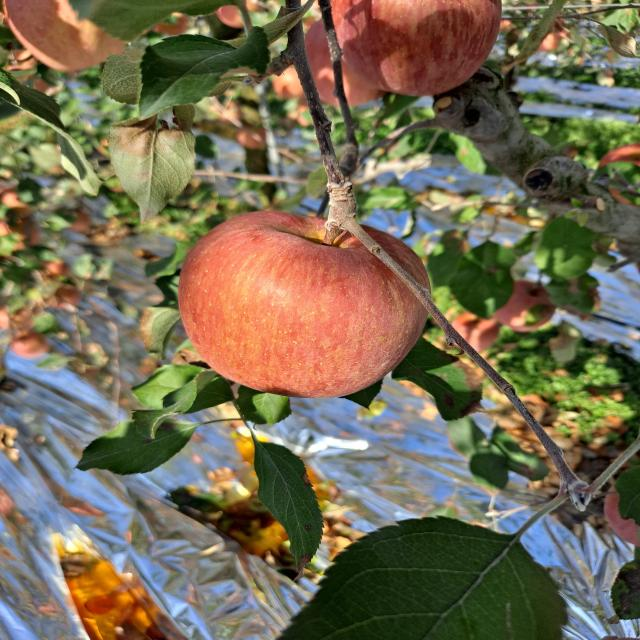fresh: (172, 203, 443, 404)
